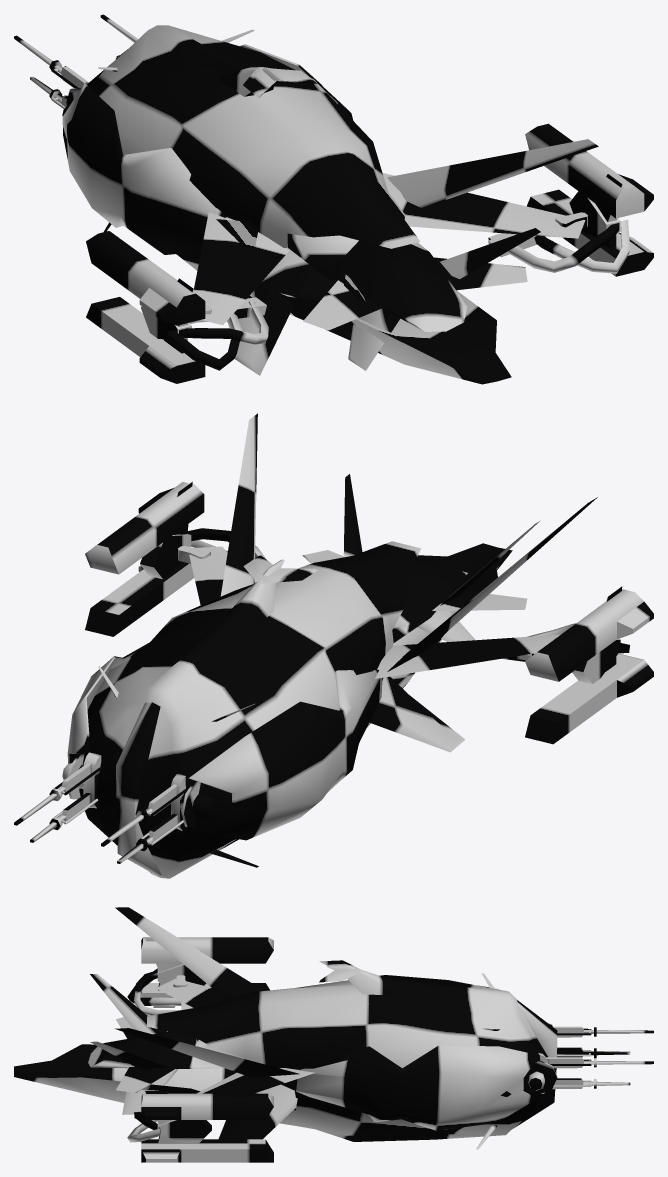
Rendered from vagrant.obj.
3 renders of one model, top to bottom at view 1: azimuth 30°, elevation 25°; view 2: azimuth 150°, elevation 25°; view 3: azimuth 270°, elevation 25°, orthographic. The views are drawn at different scales.
Parts seen in each view (by area): view 1: vagrant; view 2: vagrant; view 3: vagrant.
Boxes of the visible parts, x1,y1,x2,y2 form: vagrant: (14,14,653,384); vagrant: (14,413,653,878); vagrant: (14,907,653,1162).
Bounding box in the file's own units: 5.23 × 2.43 × 8.05.
1 material, 1 textured.
